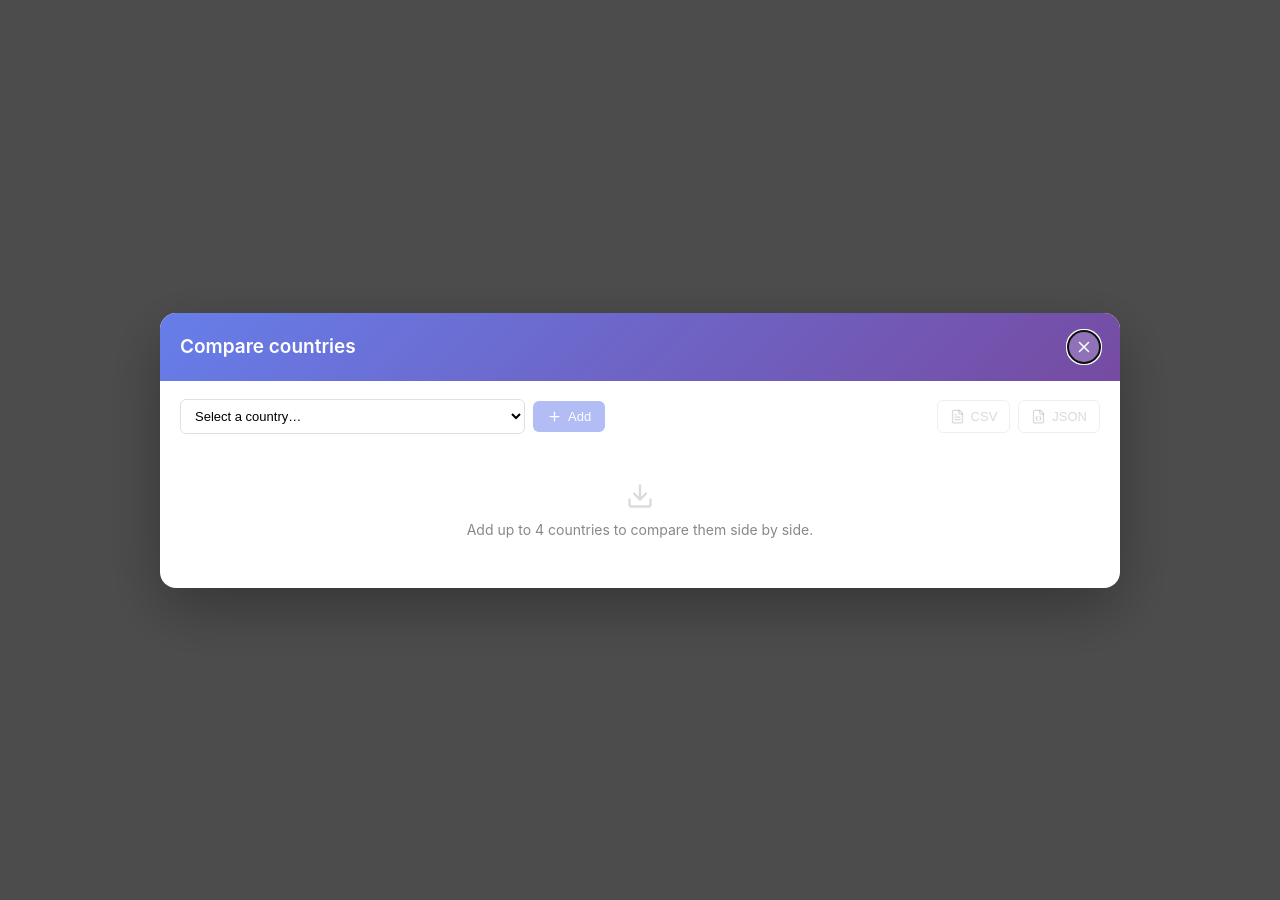
Test: CountryComparison › adds a country chosen from the picker
Expected: the text "Add up to 4 countries to compare them side by side." is shown, [467,520,813,538]
Select "Ireland [IE]" in the dropdown named "Choose a country to compare" at x=352, y=416, box [180,398,525,434]
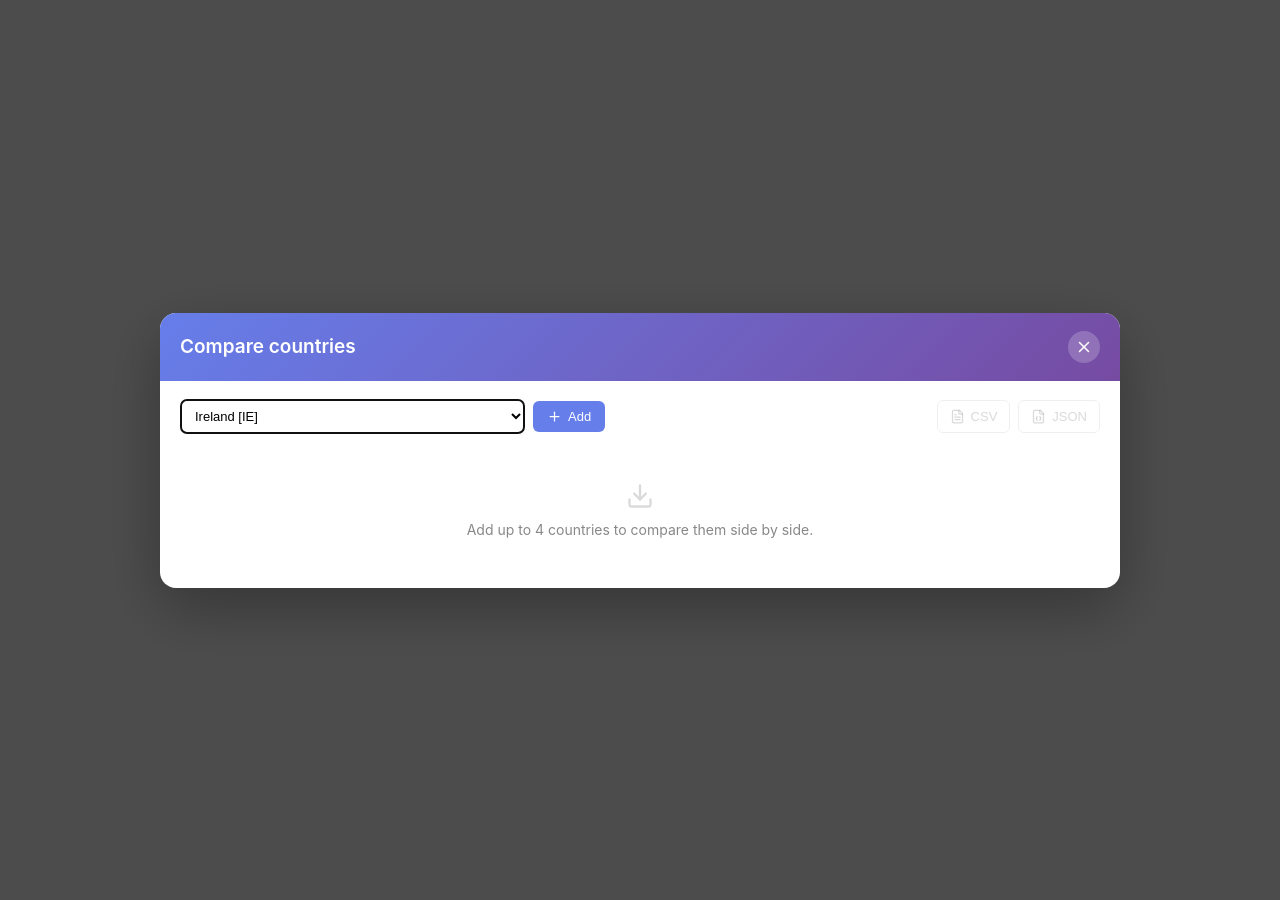
Click the button "Add".
click(569, 416)  # box [533,400,605,432]
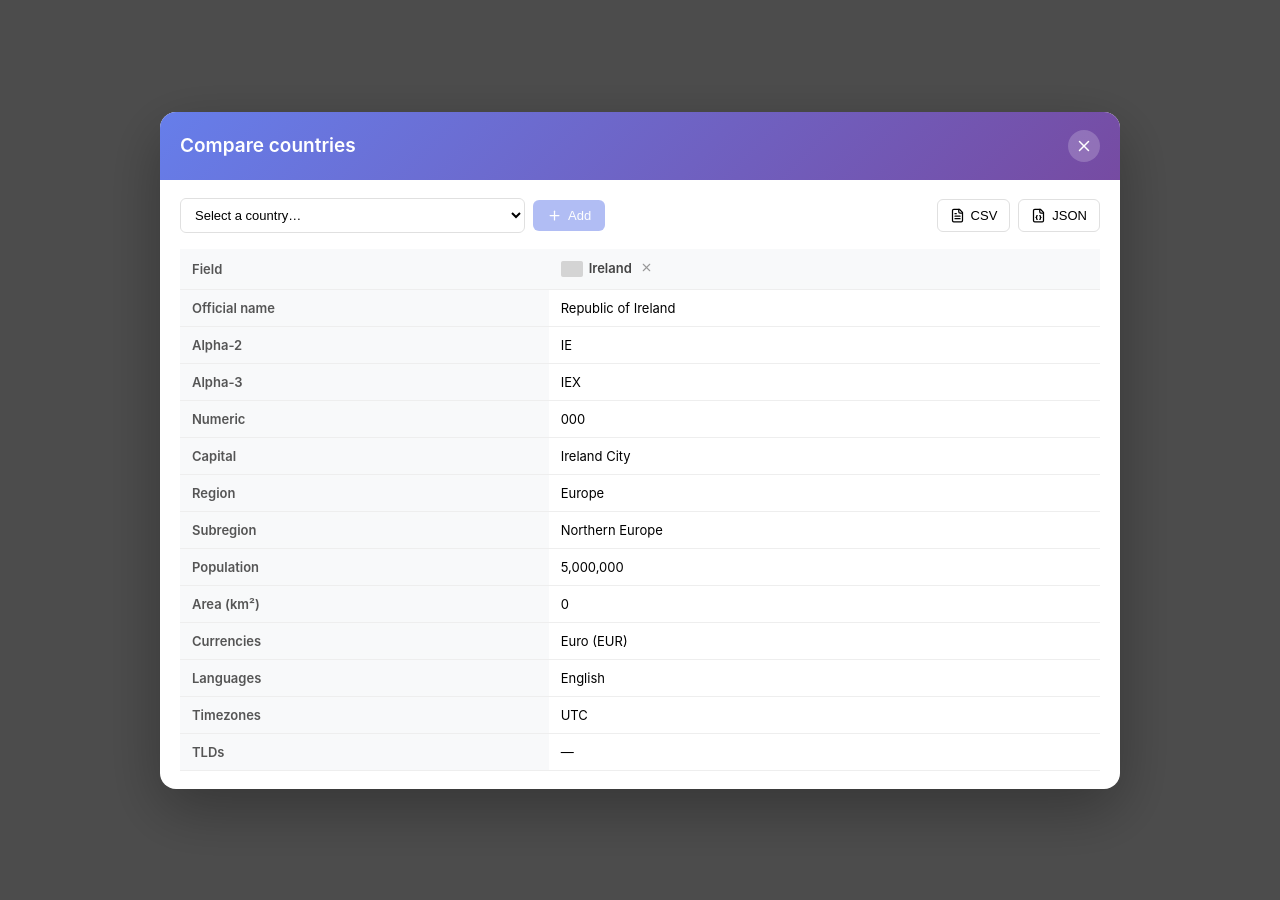
Expected: the text "Republic of Ireland" is shown, [549,289,1100,326]
